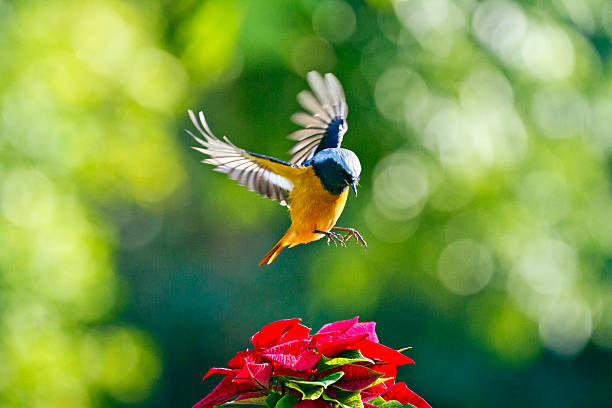Bird: (180, 67, 378, 270)
